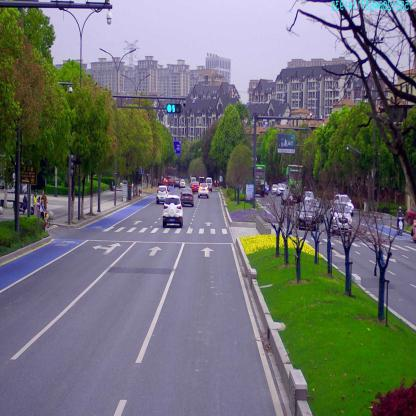traffic-light: (167, 102, 181, 114)
